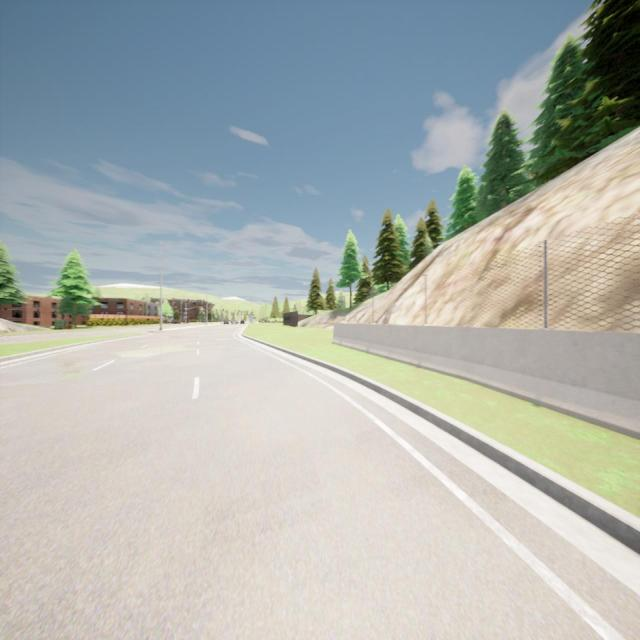Vehicle: (224, 319, 228, 324), (232, 320, 237, 324), (241, 320, 244, 324)
